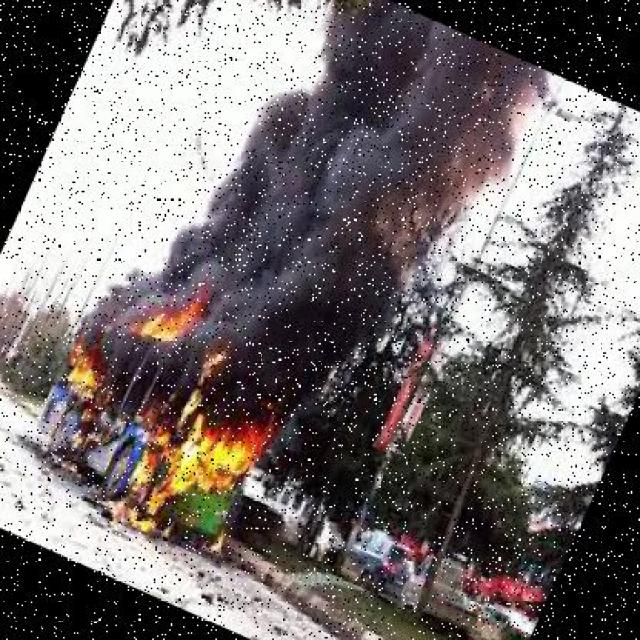fire: (92, 340, 303, 588), (48, 286, 149, 409), (122, 260, 218, 374)
